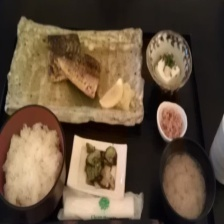rice: (0, 123, 62, 205)
